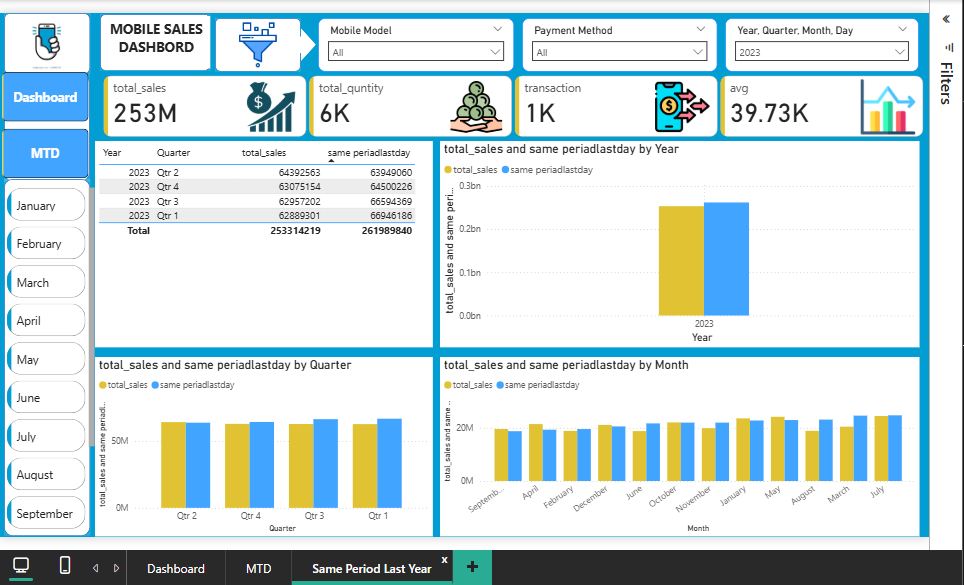

Layout of this report page (visuals, bound fields, positions):
{"tool":"powerbi","page":{"name":"Same Period Last Year","canvas":[1280,720],"ordinal":2},"visuals":[{"type":"shape","box":[7.1,0,118.6,84.3],"z":0},{"type":"image","box":[25.1,1.5,82.7,81.2],"z":1000},{"type":"shape","box":[7.4,84.2,118.2,147.7],"z":2000},{"type":"cardVisual","fields":{"Data":["sales_data.total_sales","sales_data.total_quntity","sales_data.transaction","sales_data.avg"]},"box":[138.6,81.4,1141.4,94.3],"z":3000},{"type":"slicer","fields":{"Values":["sales_data.Mobile Model"]},"box":[438.6,7.4,270.3,73.8],"z":4000},{"type":"slicer","fields":{"Values":["sales_data.Payment Method"]},"box":[719.3,7.4,268.8,73.8],"z":5000},{"type":"shape","box":[296.9,7.4,118.2,73.8],"z":6000},{"type":"image","box":[296.9,7.4,118.2,73.8],"z":7000},{"type":"shape","box":[394.3,20.7,41.4,45.8],"z":8000},{"type":"shape","box":[138.8,1.5,152.1,78.3],"z":9000},{"type":"textbox","box":[141.8,4.4,149.2,72.4],"z":10000},{"type":"shape","box":[7.1,228.6,118.6,491.4],"z":11000},{"type":"tableEx","fields":{"Values":["custom_calender.date.Variation.Date Hierarchy.Year","custom_calender.date.Variation.Date Hierarchy.Quarter","sales_data.total_sales","sales_data.same periadlastday"]},"box":[131.4,175.8,465.2,283.6],"z":12000},{"type":"slicer","fields":{"Values":["custom_calender.date.Variation.Date Hierarchy.Year","custom_calender.date.Variation.Date Hierarchy.Quarter","custom_calender.date.Variation.Date Hierarchy.Month","custom_calender.date.Variation.Date Hierarchy.Day"]},"box":[999.9,7.4,267.3,73.8],"z":13000},{"type":"advancedSlicerVisual","fields":{"Values":["custom_calender.date.Variation.Date Hierarchy.Month"]},"box":[5.9,235.6,131.4,484.4],"z":14000},{"type":"clusteredColumnChart","fields":{"Category":["custom_calender.date.Variation.Date Hierarchy.Year","custom_calender.date.Variation.Date Hierarchy.Quarter"],"Y":["sales_data.total_sales","sales_data.same periadlastday"]},"box":[607,175.8,660.2,283.6],"z":15000},{"type":"clusteredColumnChart","fields":{"Y":["sales_data.total_sales","sales_data.same periadlastday"],"Category":["custom_calender.date.Variation.Date Hierarchy.Year","custom_calender.date.Variation.Date Hierarchy.Quarter","custom_calender.date.Variation.Date Hierarchy.Month","custom_calender.date.Variation.Date Hierarchy.Day"]},"box":[607,474.1,660.2,246.6],"z":16000},{"type":"clusteredColumnChart","fields":{"Category":["custom_calender.date.Variation.Date Hierarchy.Year","custom_calender.date.Variation.Date Hierarchy.Quarter"],"Y":["sales_data.total_sales","sales_data.same periadlastday"]},"box":[131.4,474.1,465.2,246.6],"z":17000},{"type":"pageNavigator","box":[4,81,119.6,146],"z":18000}]}

Visuals, with their boxes on the page's 1280x720 design canvas (x1, y1, x2, y2). These are canvas units, not pixel positions in the 964x585 screenshot, which may show the page scaled, cropped or inside an application window:
shape: 7/0/126/84
image: 25/2/108/83
shape: 7/84/126/232
cardVisual - sales_data.total_sales x sales_data.total_quntity: 139/81/1280/176
slicer - sales_data.Mobile Model: 439/7/709/81
slicer - sales_data.Payment Method: 719/7/988/81
shape: 297/7/415/81
image: 297/7/415/81
shape: 394/21/436/66
shape: 139/2/291/80
textbox: 142/4/291/77
shape: 7/229/126/720
tableEx - custom_calender.date.Variation.Date Hierarchy.Year x custom_calender.date.Variation.Date Hierarchy.Quarter: 131/176/597/459
slicer - custom_calender.date.Variation.Date Hierarchy.Year x custom_calender.date.Variation.Date Hierarchy.Quarter: 1000/7/1267/81
advancedSlicerVisual - custom_calender.date.Variation.Date Hierarchy.Month: 6/236/137/720
clusteredColumnChart - custom_calender.date.Variation.Date Hierarchy.Year x custom_calender.date.Variation.Date Hierarchy.Quarter: 607/176/1267/459
clusteredColumnChart - sales_data.total_sales x sales_data.same periadlastday: 607/474/1267/721
clusteredColumnChart - custom_calender.date.Variation.Date Hierarchy.Year x custom_calender.date.Variation.Date Hierarchy.Quarter: 131/474/597/721
pageNavigator: 4/81/124/227
